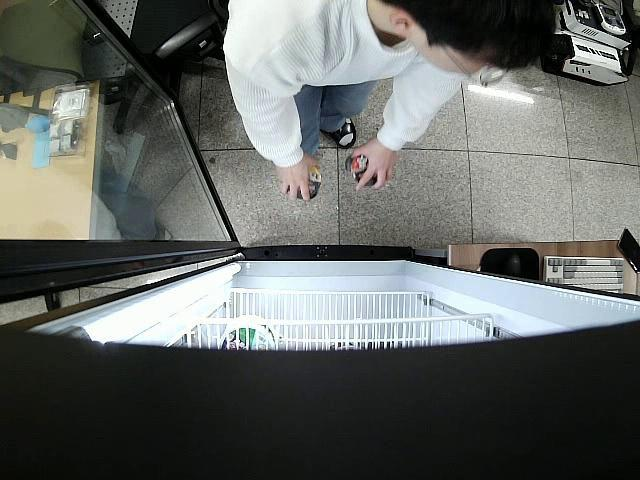08_buldak_S: (347, 154, 378, 188), (298, 167, 322, 201)
